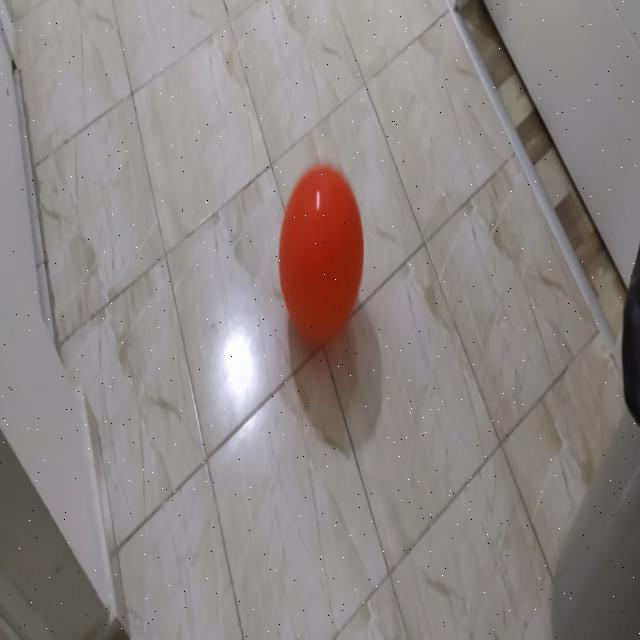red: (277, 163, 364, 348)
